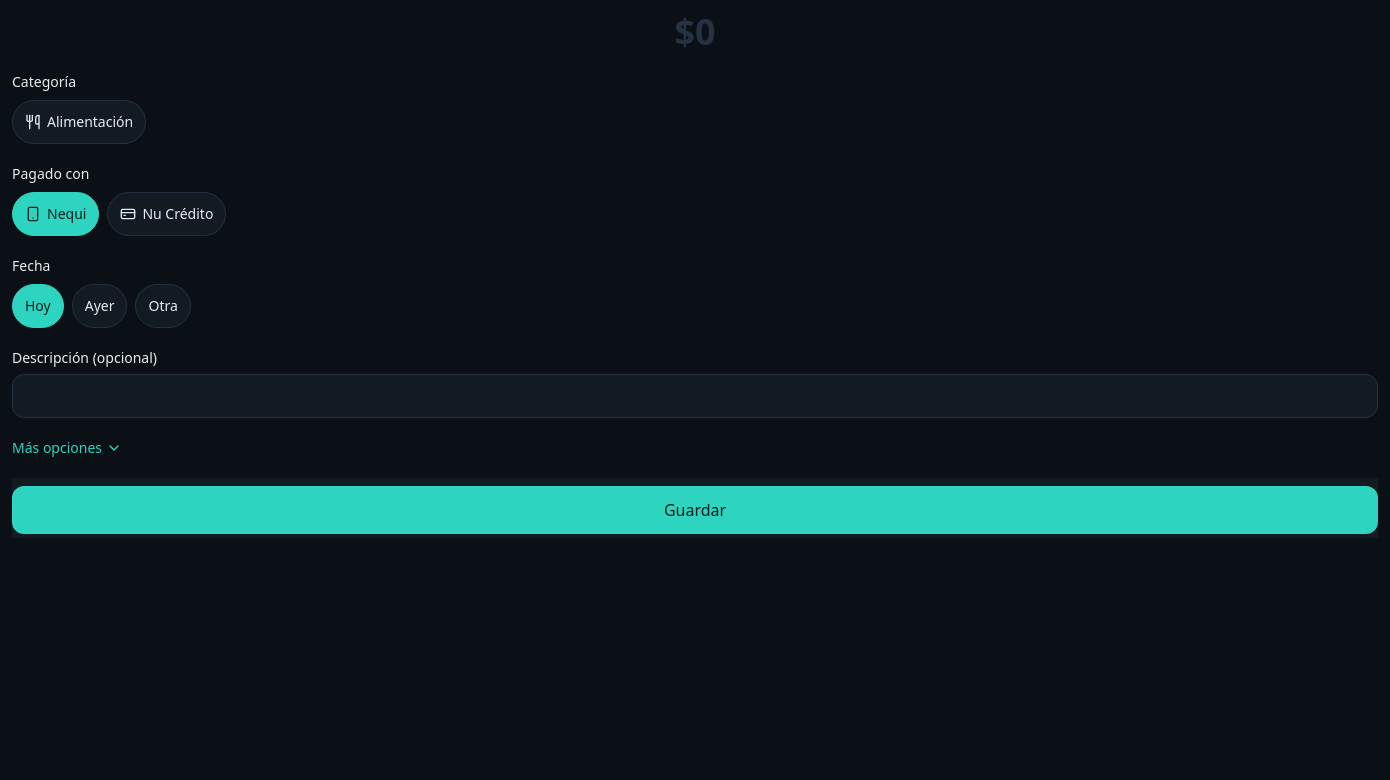
Test: TransactionForm (edit and errors) › shows the general message when the server rejects a field the form does not render
This screenshot has width=1390, height=780.
Type "5000" into the field named "Valor" at (695, 32), box 12,12 -> 1378,52
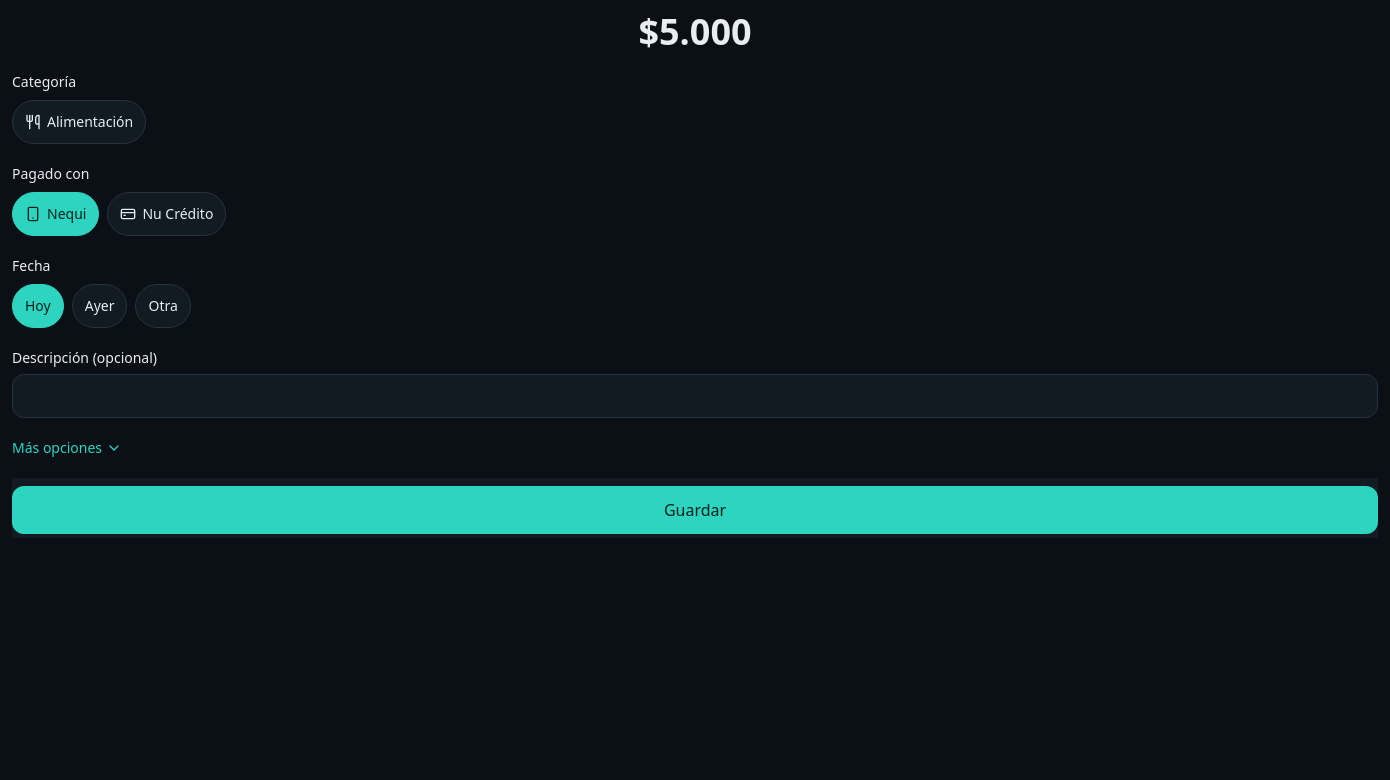
Click the radio button labelled "Alimentación" at (79, 122), box 12,100 -> 146,144
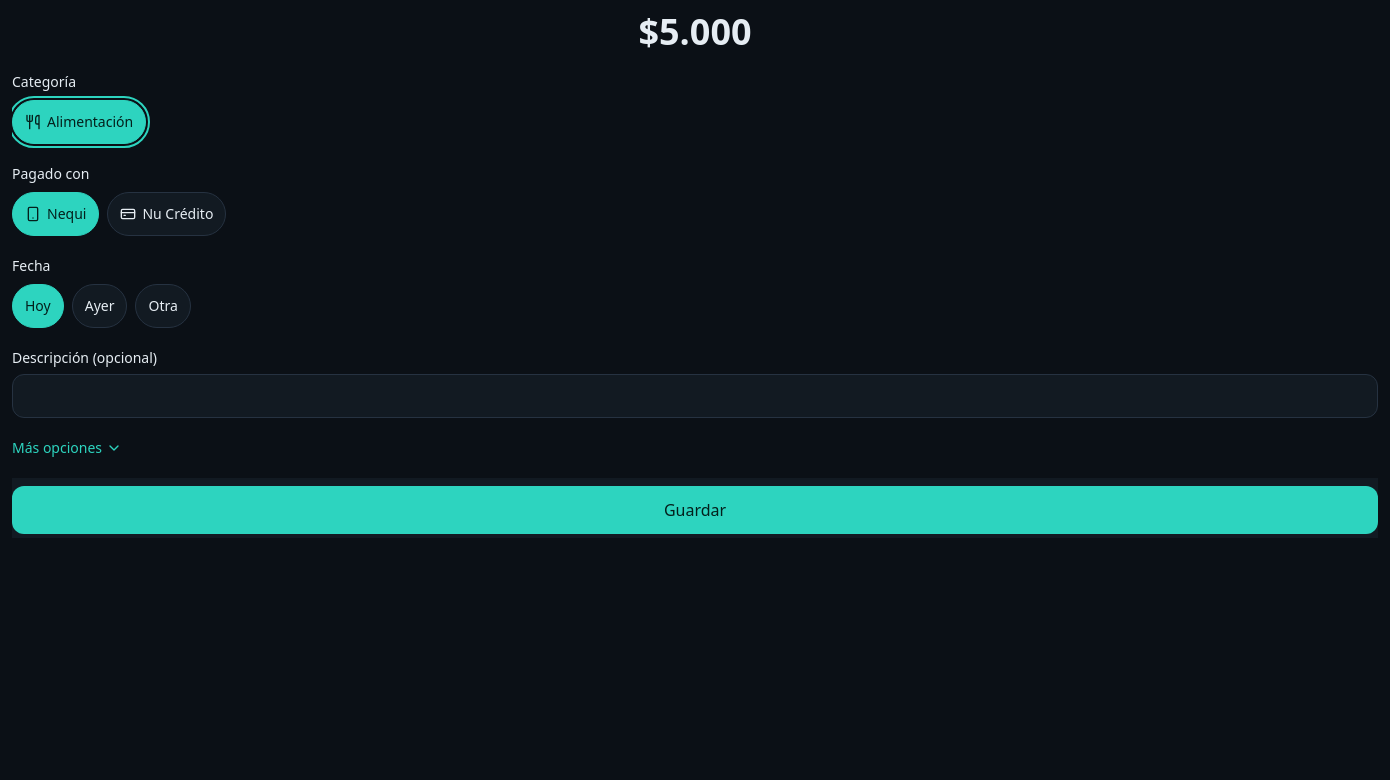
Click the button "Guardar" at (695, 510), box 12,486 -> 1378,534
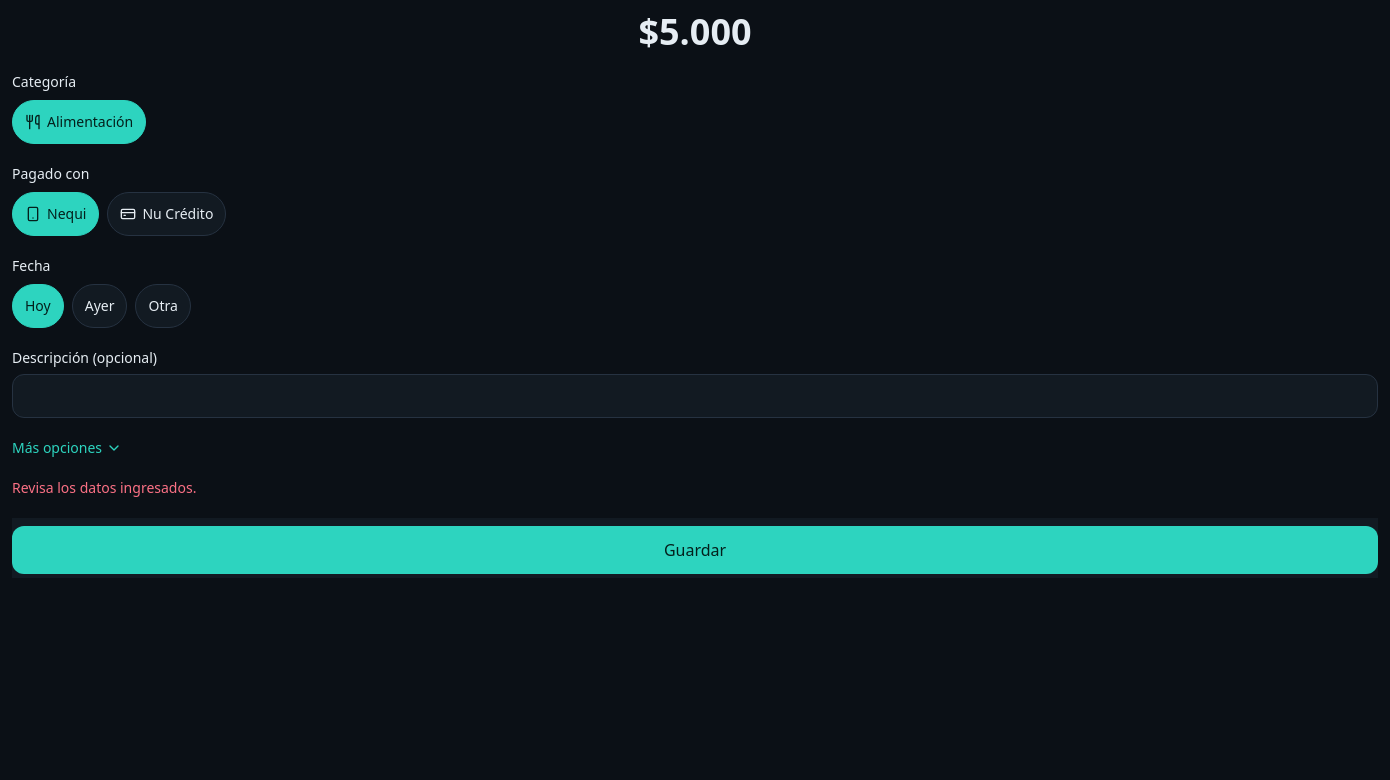
Expected: the message reads "Revisa los datos ingresados.", 12,478 -> 196,497
